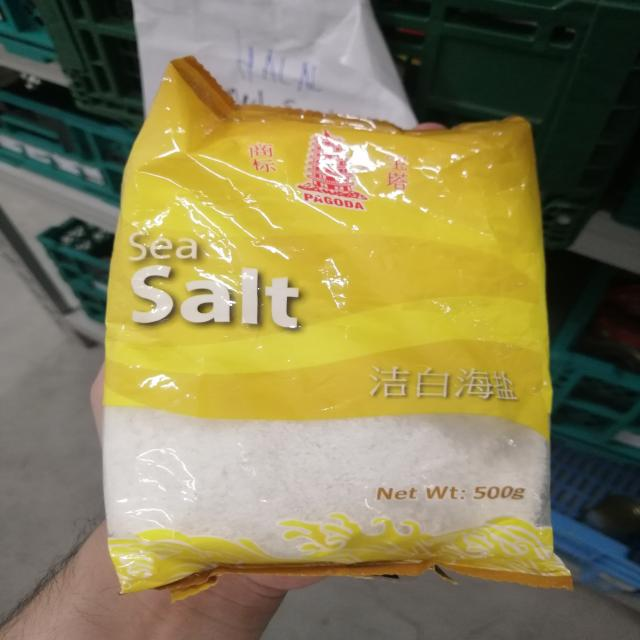object_name: (126, 107, 547, 571)
